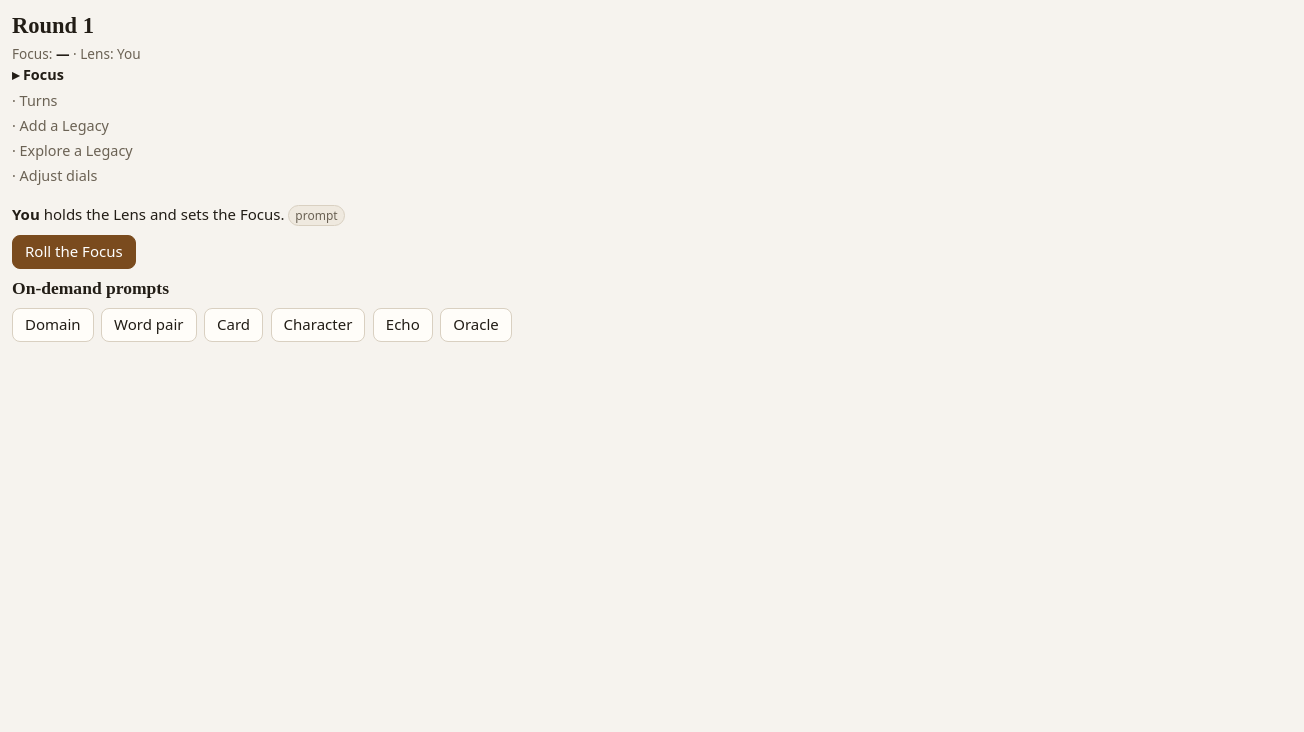
Test case: TurnPanel: round start and Focus › prompt Focus: roll, then accept
Click the button "Roll the Focus": point(74, 252) [12,234,136,269]
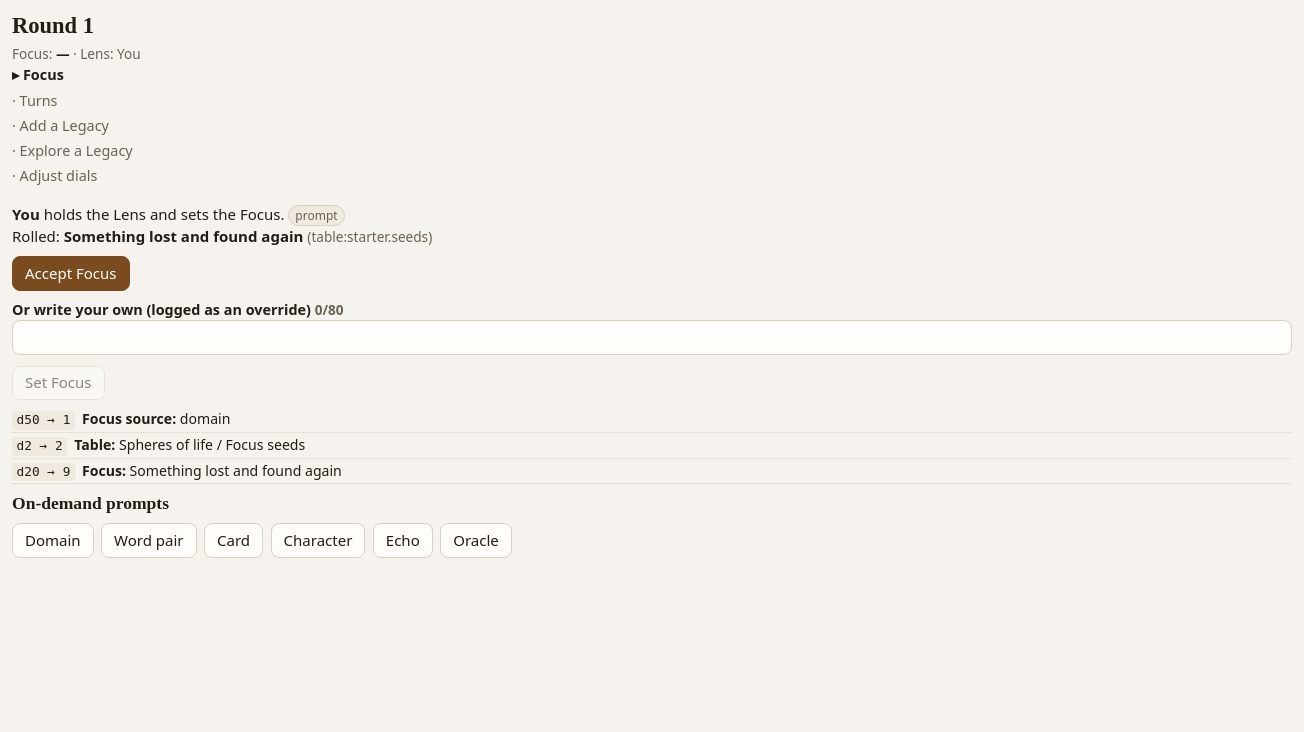
expect the text "Something lost and found again" is shown: met, box [64,226,303,246]
Click the button "Accept Focus": point(71, 273) [12,256,130,291]
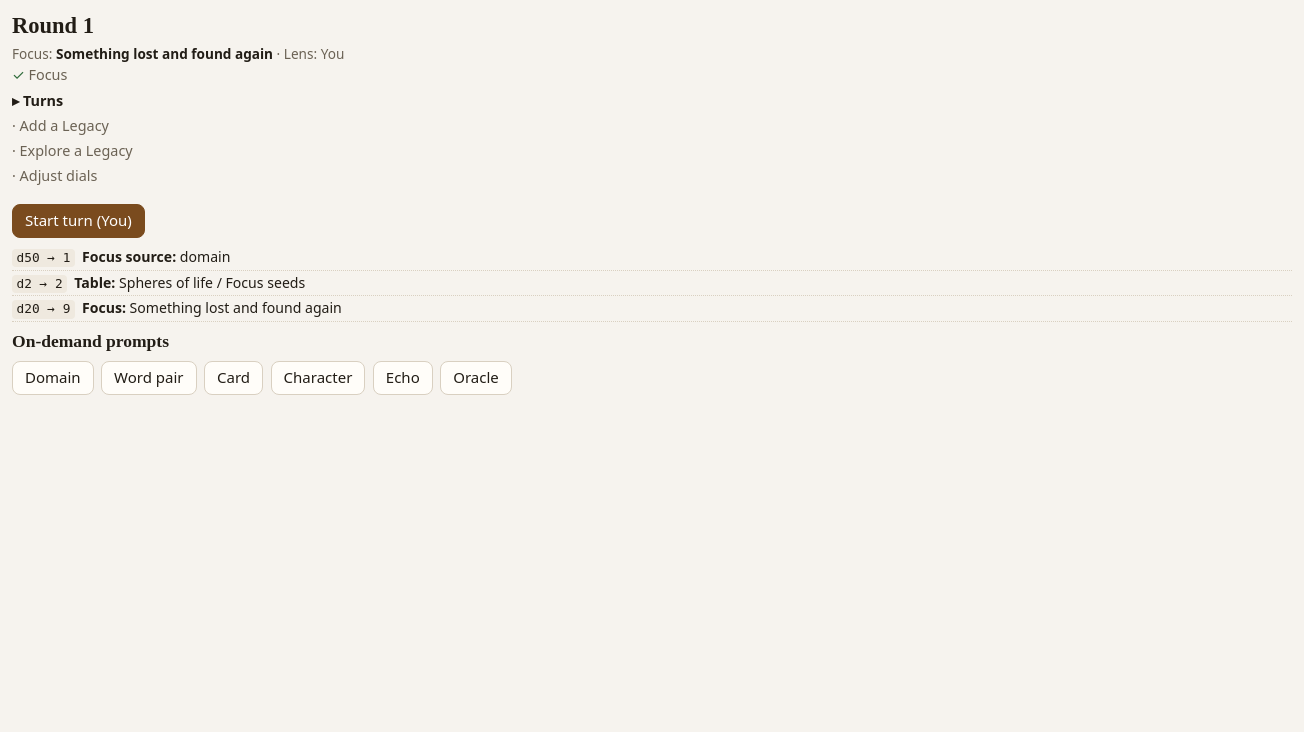
expect the text "Something lost and found again" is shown: met, box [56,44,273,62]
